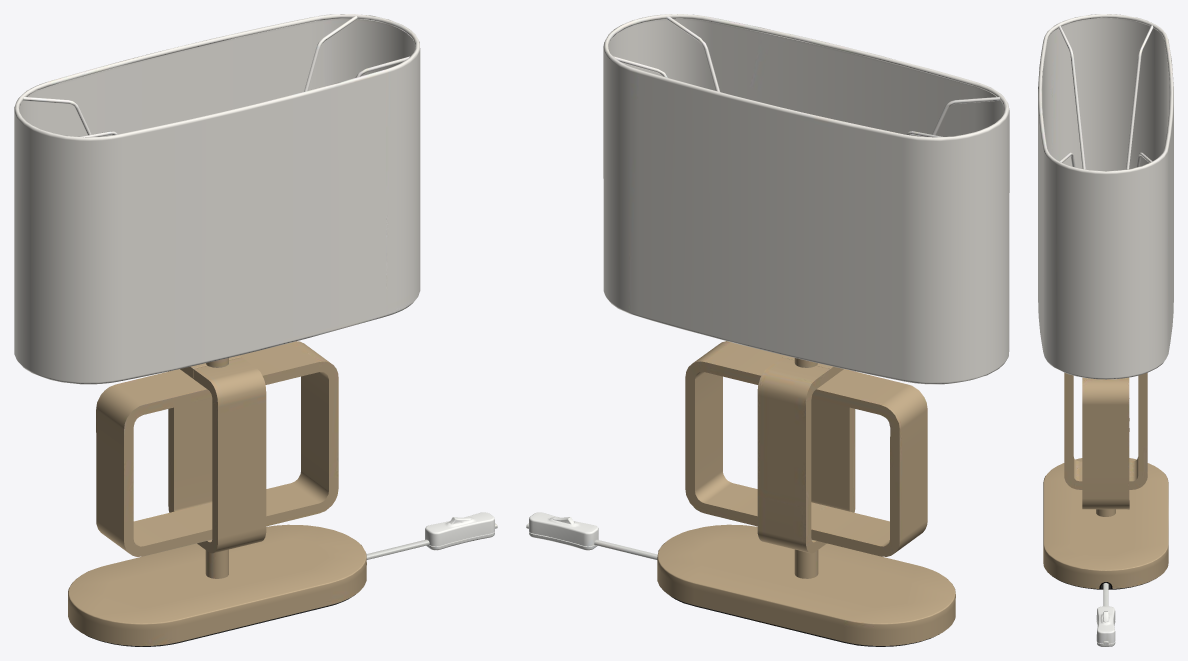
File: UPPVIND Table Lamp.glb
3 views of the same model, side by side, from view 1: azimuth 30°, elevation 25°; view 2: azimuth 150°, elevation 25°; view 3: azimuth 270°, elevation 25° (orthographic). The views are drawn at different scales.
Visible parts, largest first — view 1: 20483163-UPPVIND001; view 2: 20483163-UPPVIND001; view 3: 20483163-UPPVIND001.
Boxes of the visible parts, x1=… form: 20483163-UPPVIND001: x1=14, y1=14, x2=497, y2=646; 20483163-UPPVIND001: x1=526, y1=14, x2=1009, y2=646; 20483163-UPPVIND001: x1=1038, y1=14, x2=1173, y2=646.
Size of the model in its own units: 0.44 by 0.4668 by 0.1301.
1 material, 1 textured.
